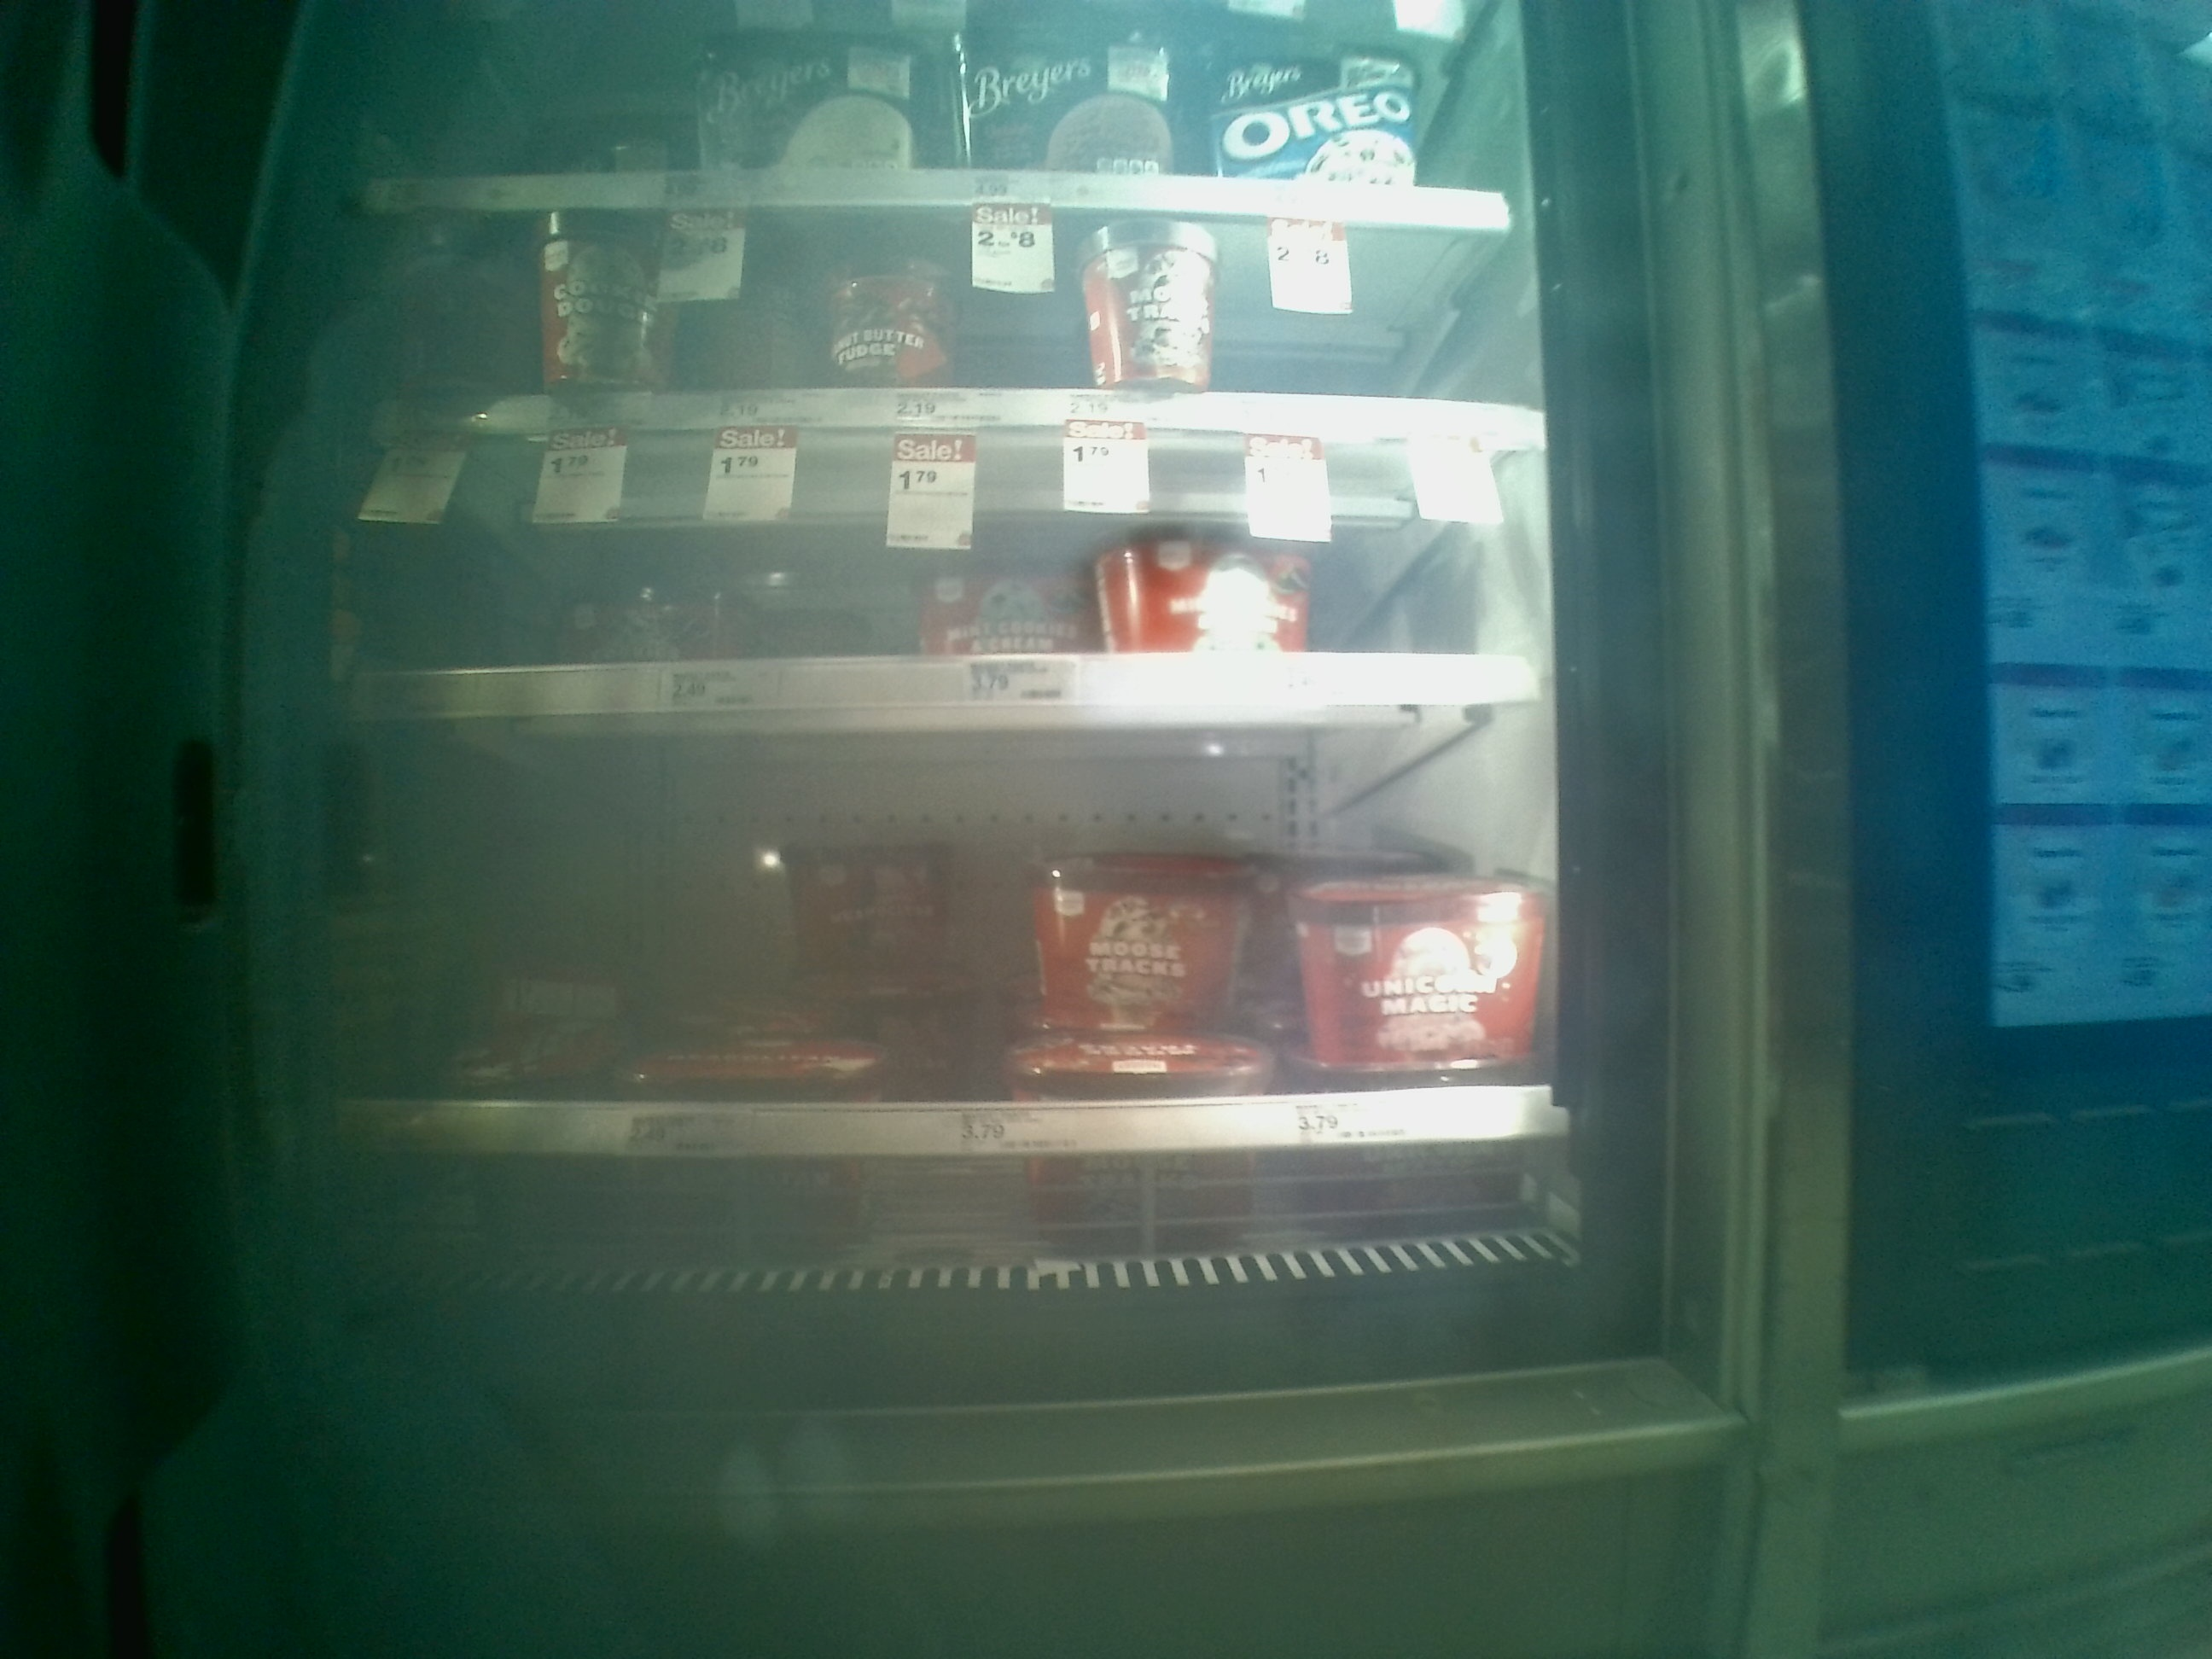shelf: (359, 699, 1578, 1246), (366, 430, 1543, 706), (369, 202, 1541, 430)
